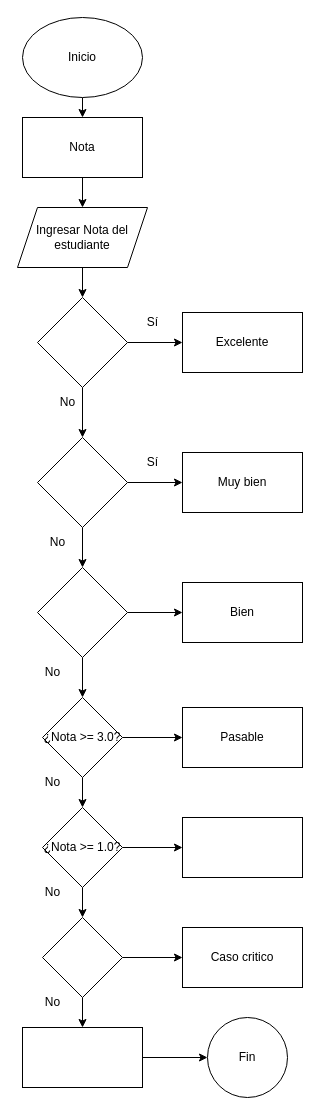
Image size: 320x1115. Some labels were removed from this diagram. Here are the shapes that lost their labels. From the top down, the box of each, then its label:
(36, 296, 128, 388): ¿Nota = 5.0?
(36, 436, 128, 528): ¿Nota >= 4.5?
(36, 566, 128, 658): ¿Nota >= 3.5?
(182, 816, 302, 878): Debe mejorar
(42, 916, 122, 998): ¿Nota = 0?
(22, 1026, 142, 1088): El valor ingresado no corresponde
